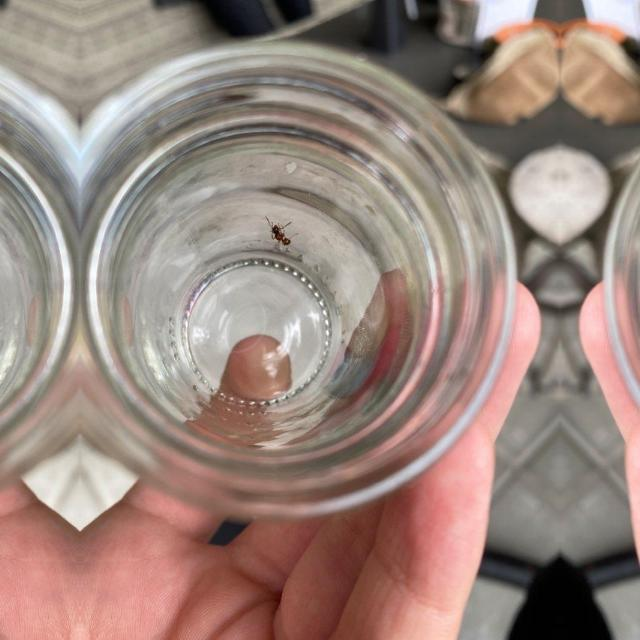Myrmica: (255, 214, 299, 248)
